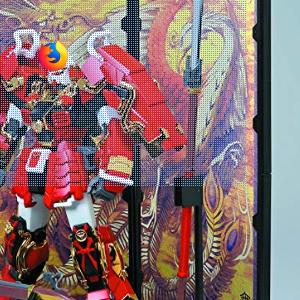firefox: (38, 40, 67, 70)
